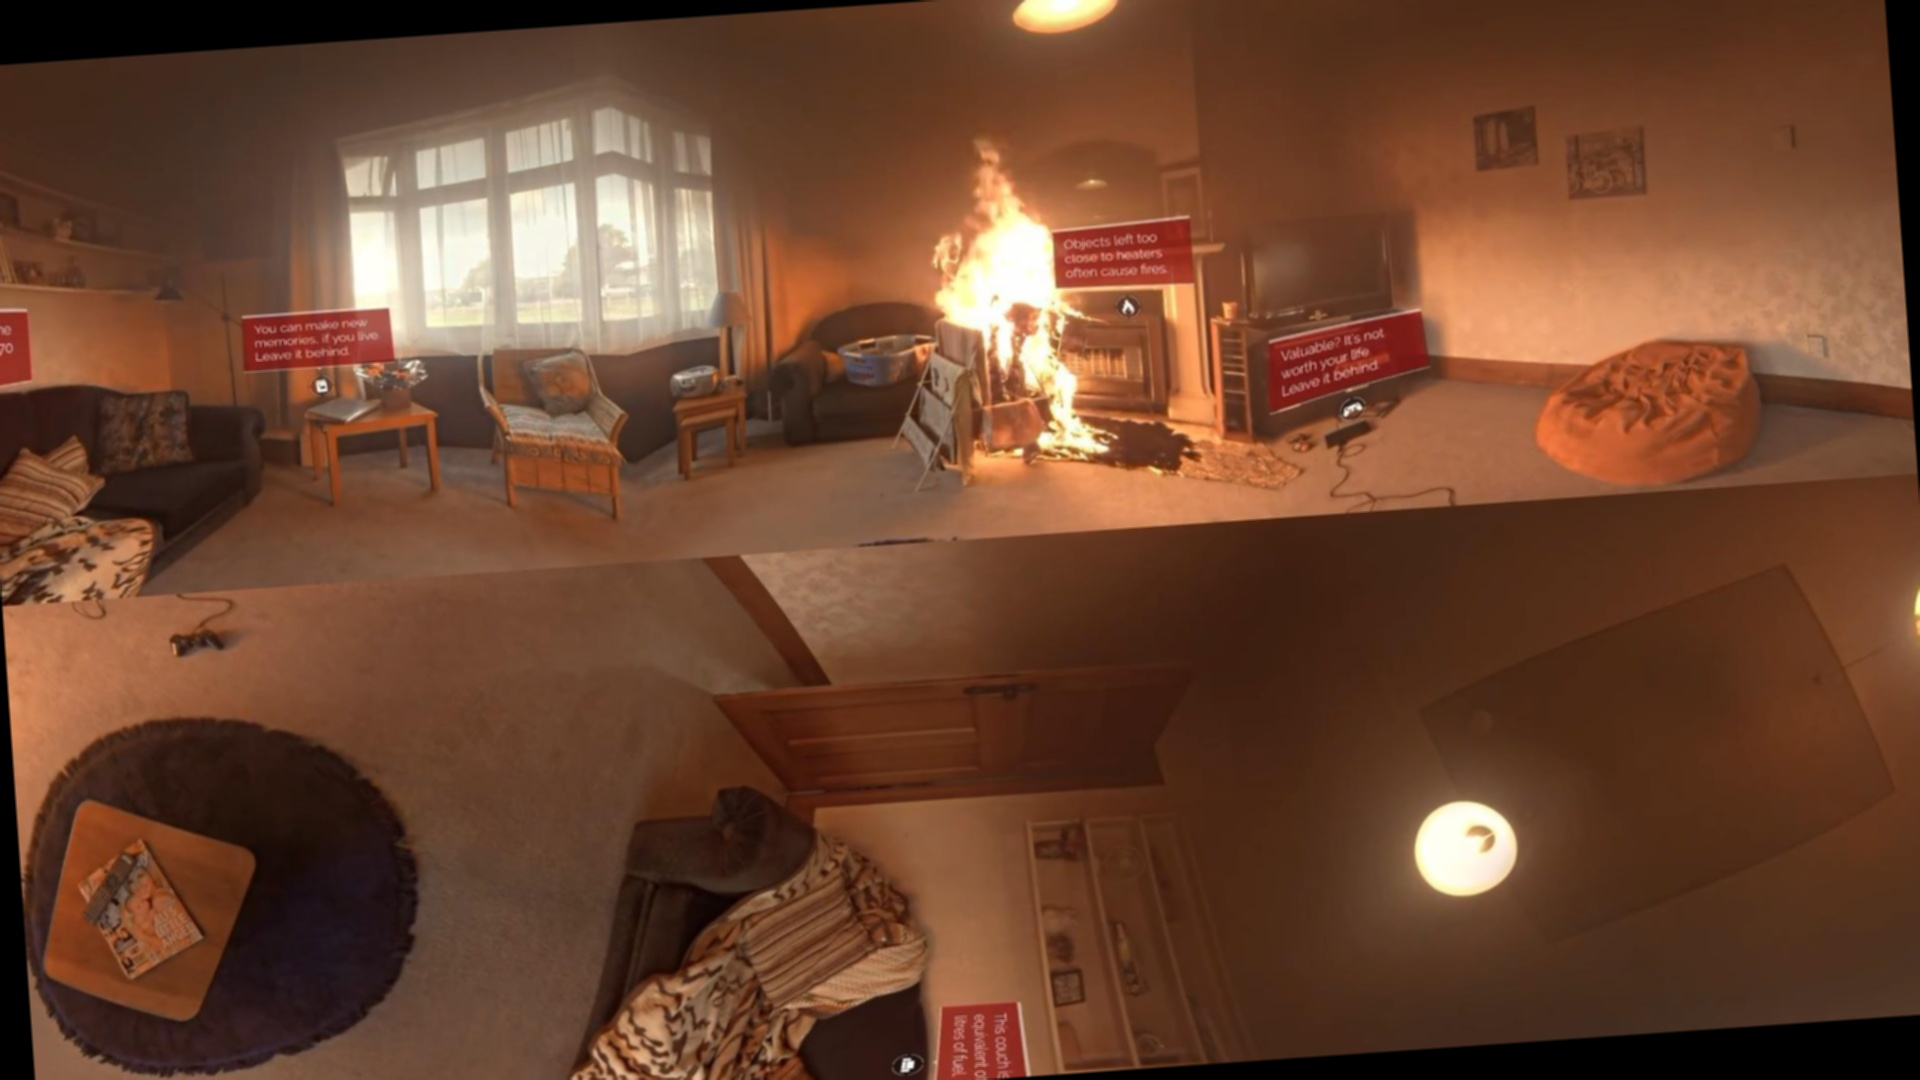fire: (909, 112, 1127, 448)
